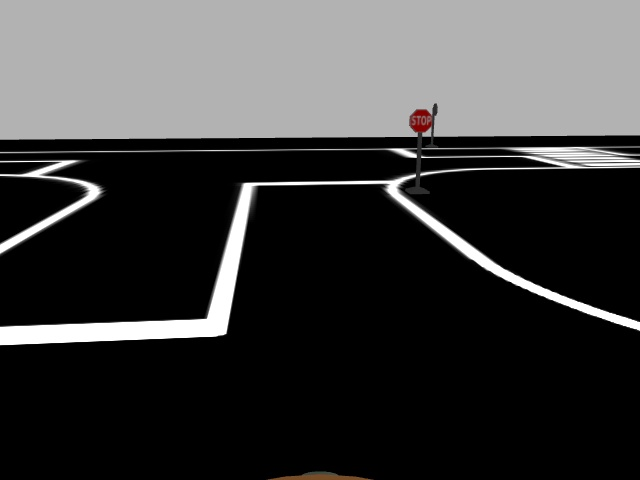stop: (407, 107, 434, 135)
